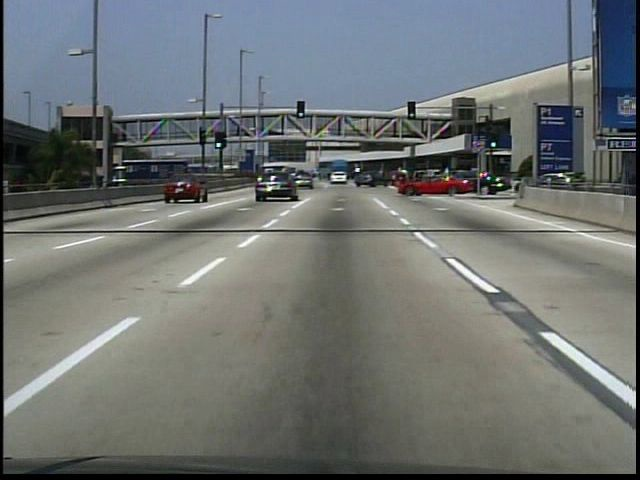person: (236, 126, 242, 138)
